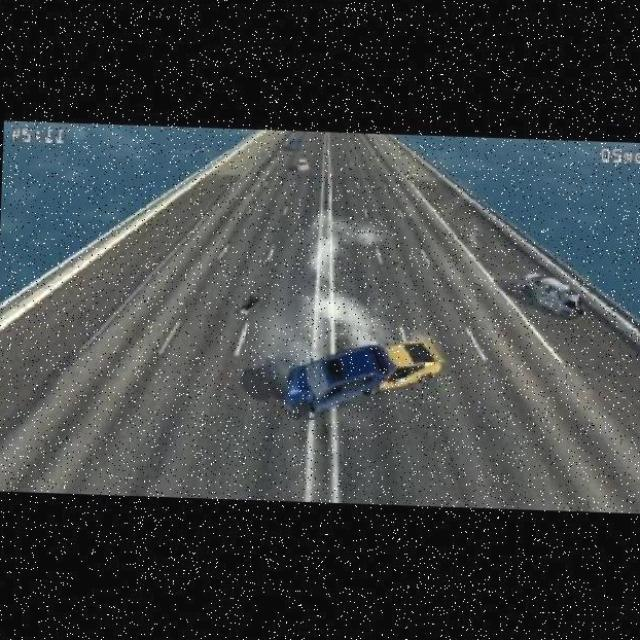accident: (269, 327, 442, 433)
